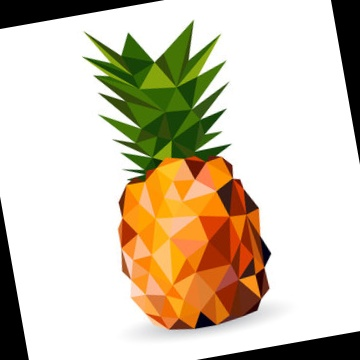Pineapple: (84, 22, 274, 331)
